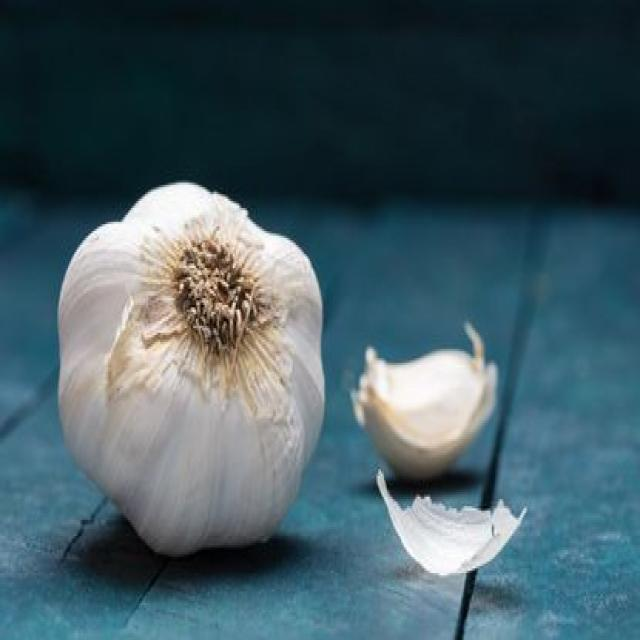garlic: (37, 185, 336, 598)
